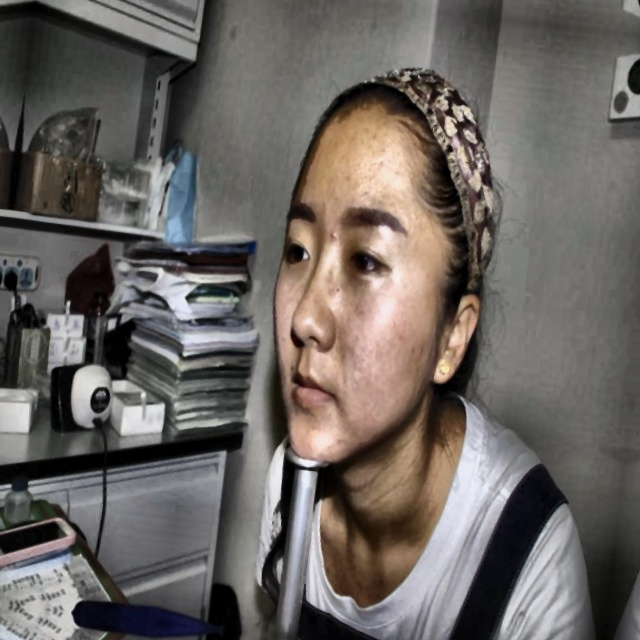comedone: (407, 331, 429, 367), (327, 222, 342, 244)
